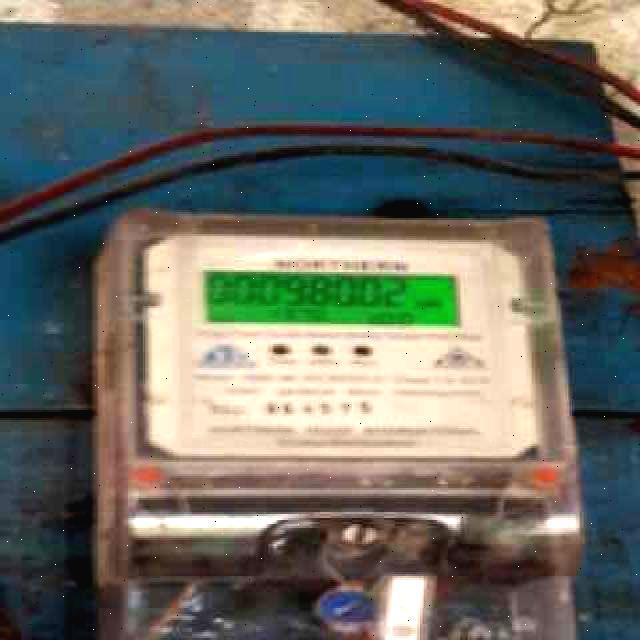LCD: (195, 258, 472, 337)
